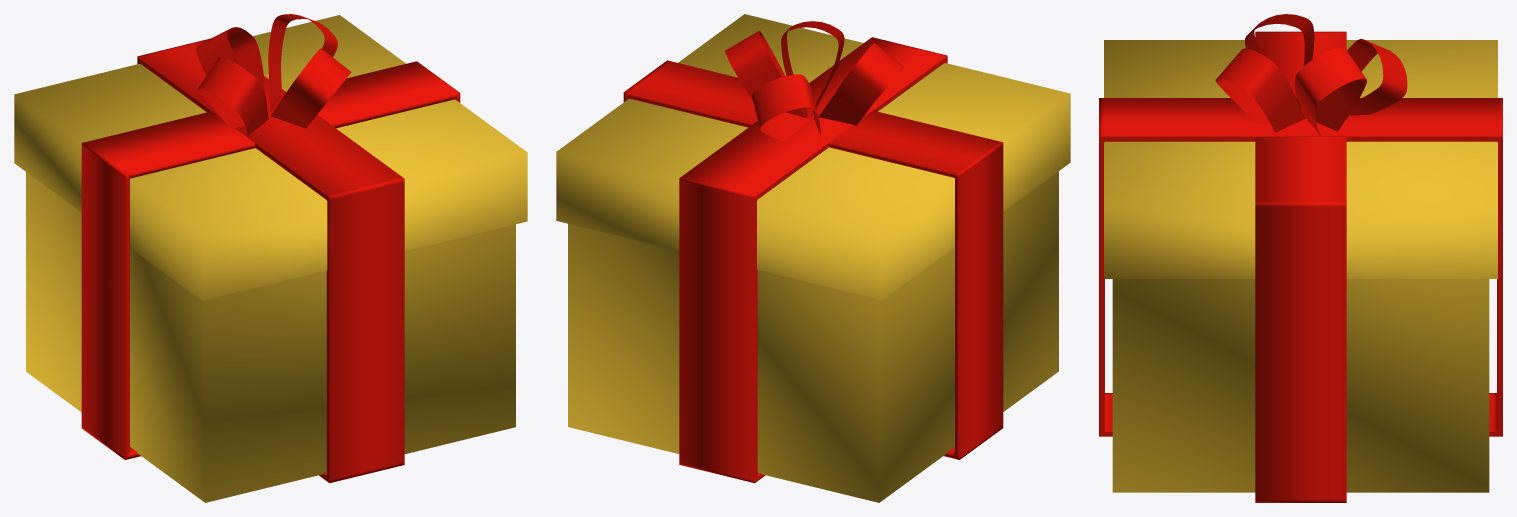
File: giftbox.glb
The picture shows the model from 3 angles, left to right: view 1: azimuth 30°, elevation 25°; view 2: azimuth 150°, elevation 25°; view 3: azimuth 270°, elevation 25°; orthographic projection. The views are drawn at different scales.
Parts seen in each view (by area): view 1: Cube, Cube.001, Plane.001, Plane.000, Plane.002; view 2: Cube, Cube.001, Plane.001, Plane.000, Plane.002; view 3: Cube, Cube.001, Plane.000, Plane.001, Plane.002.
Part boxes in pixels (x1,y1,x2,y2): Cube: (26, 172, 515, 502); Cube.001: (14, 15, 527, 300); Plane.001: (137, 38, 404, 483); Plane.000: (81, 61, 460, 459); Plane.002: (196, 14, 351, 135); Cube: (568, 171, 1058, 502); Cube.001: (556, 14, 1070, 300); Plane.001: (679, 37, 947, 483); Plane.000: (623, 60, 1003, 459); Plane.002: (725, 21, 904, 141); Cube: (1112, 279, 1489, 492); Cube.001: (1104, 40, 1497, 278); Plane.000: (1255, 31, 1346, 502); Plane.001: (1099, 98, 1502, 436); Plane.002: (1215, 14, 1407, 136).
Size of the model in its own units: 2.16 by 2.27 by 2.14.
